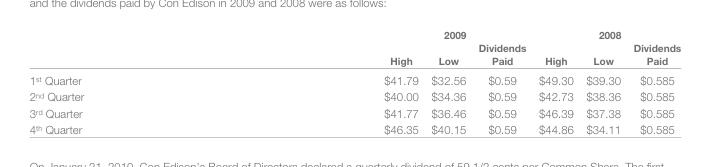table: (28, 28, 680, 135)
table column: (28, 28, 233, 135), (233, 28, 424, 135), (471, 28, 531, 135), (626, 28, 680, 135), (531, 28, 579, 135), (424, 28, 471, 135), (579, 28, 626, 135)
table column header: (28, 28, 680, 69)
table row: (28, 40, 680, 69), (28, 69, 680, 87), (28, 87, 680, 104), (28, 104, 680, 120), (28, 120, 680, 135), (28, 28, 680, 40)
table spanning cell: (233, 28, 531, 40), (531, 28, 680, 40)
